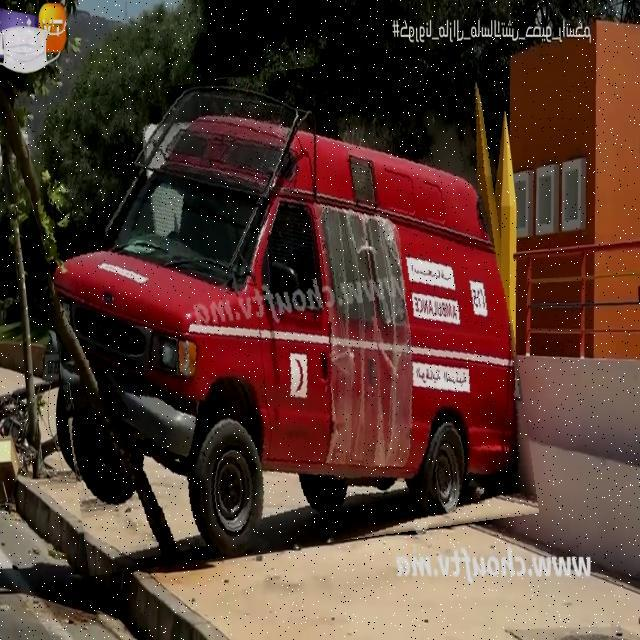ambulance: (39, 59, 523, 562)
